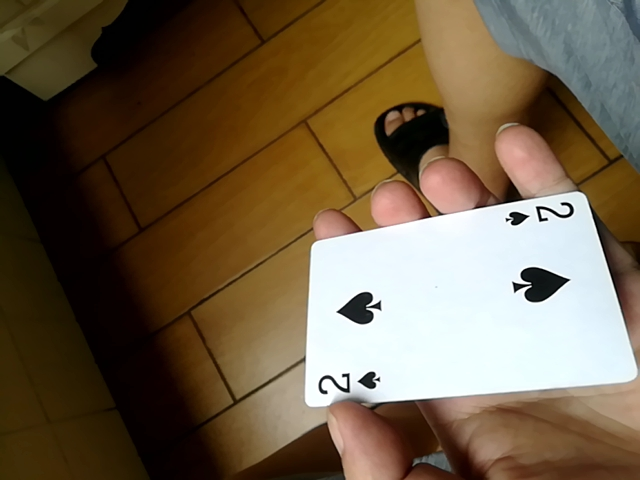ht 2: (306, 187, 634, 410)
